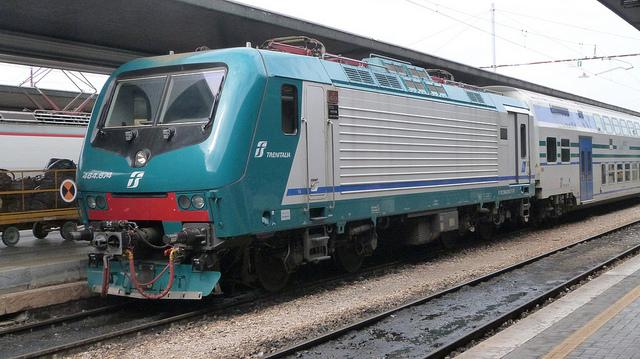Train: (70, 36, 640, 301), (3, 108, 91, 246)
